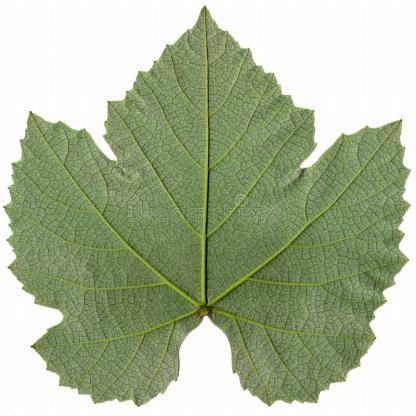grape leaf black rot: (0, 6, 414, 403)
